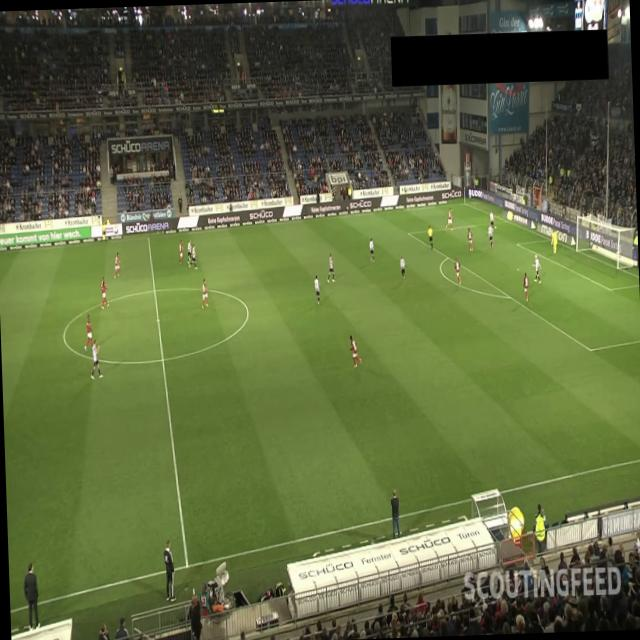ball: (494, 225, 496, 230)
goalkeeper: (550, 228, 558, 254)
player: (89, 338, 102, 379), (348, 335, 360, 368), (83, 313, 93, 352), (100, 276, 110, 308), (532, 254, 542, 284), (200, 277, 209, 309), (326, 252, 334, 283), (522, 272, 530, 302), (444, 206, 453, 232), (454, 256, 461, 284), (113, 251, 120, 277), (190, 243, 197, 269), (314, 274, 320, 304), (186, 239, 192, 266), (399, 254, 405, 281), (368, 236, 374, 262), (467, 227, 473, 251), (488, 210, 494, 232), (488, 222, 493, 248), (178, 240, 183, 264)
referee: (426, 223, 434, 250), (100, 221, 106, 242)
